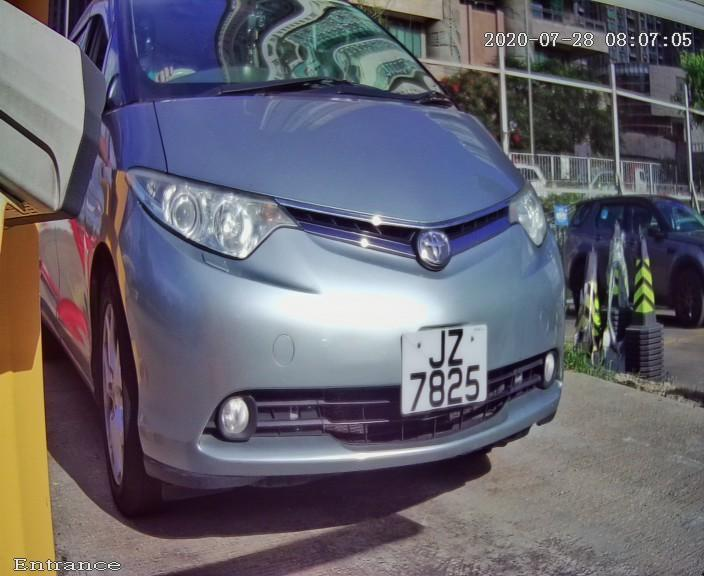privatecar: (29, 6, 623, 543)
